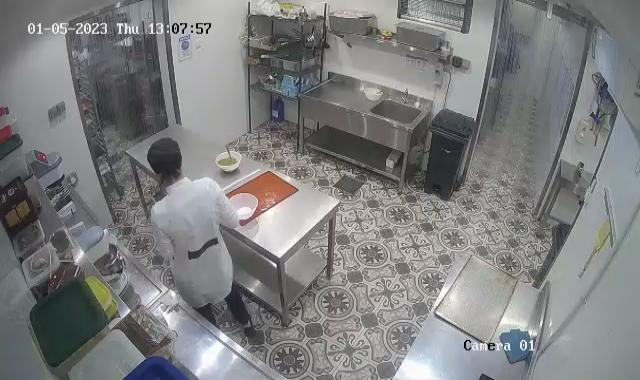no_hairnet: (144, 138, 185, 184)
